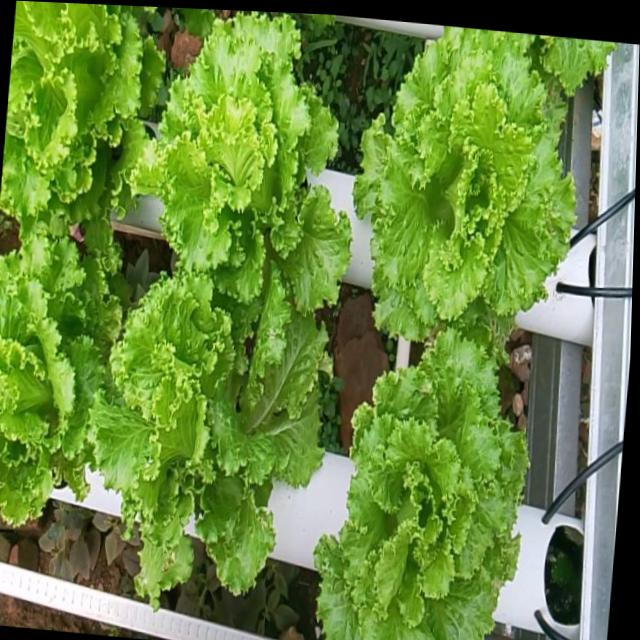Mature: (91, 272, 324, 636), (351, 26, 598, 348), (313, 328, 528, 640), (129, 12, 350, 315), (0, 1, 160, 254), (0, 238, 118, 530)
